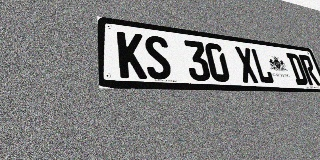0: (204, 42, 231, 82)
3: (184, 40, 211, 81)
D: (286, 53, 309, 85)
K: (117, 31, 147, 79)
L: (250, 48, 275, 84)
R: (298, 54, 320, 86)
S: (143, 34, 173, 80)
X: (234, 46, 260, 83)
